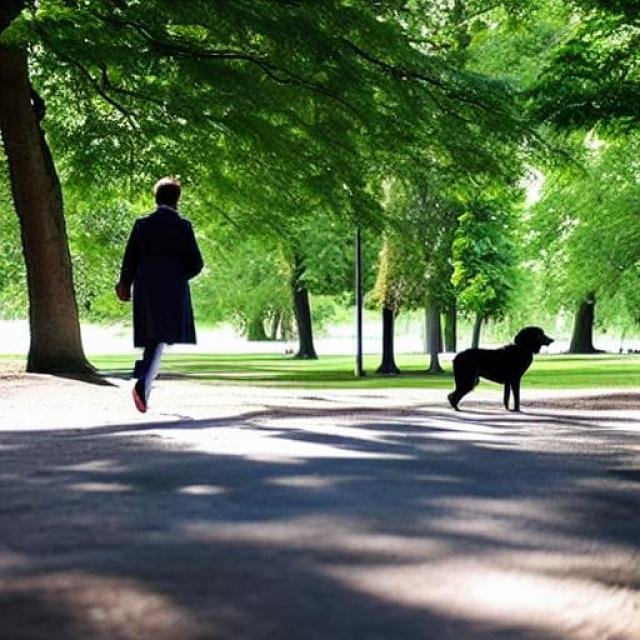Unleashed_Dog: (133, 276, 555, 414)
